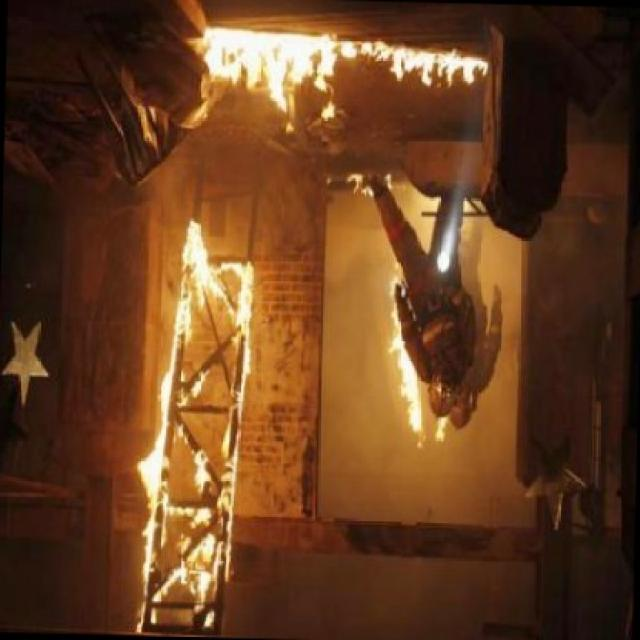fire: (126, 213, 312, 639), (146, 15, 509, 170), (368, 306, 455, 466)
